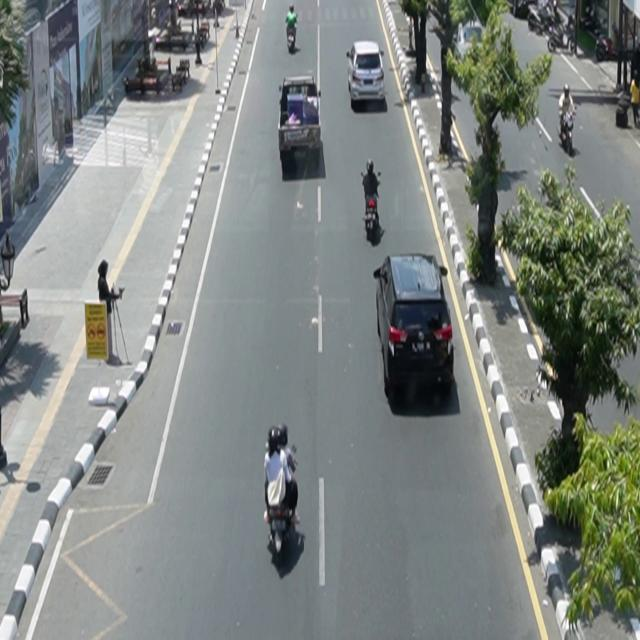car: (374, 253, 456, 398), (279, 75, 322, 158), (347, 41, 386, 104), (453, 20, 486, 65)
